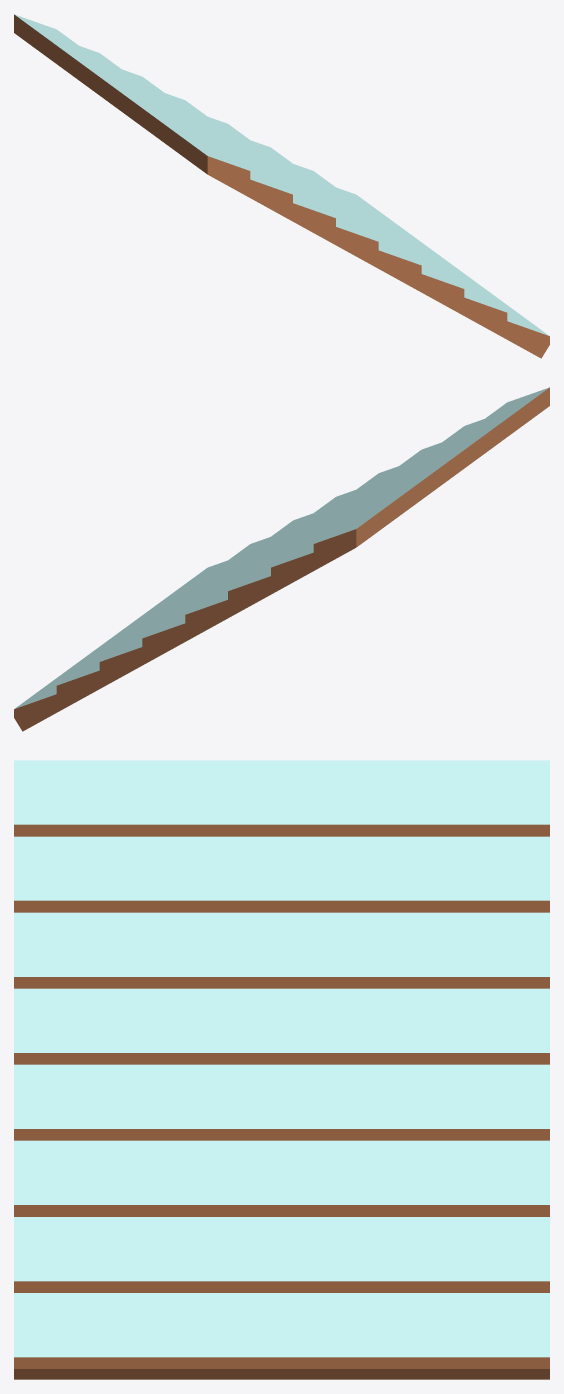
File: cabinRoof.dae
The picture shows the model from 3 angles, top to bottom: view 1: azimuth 30°, elevation 25°; view 2: azimuth 150°, elevation 25°; view 3: azimuth 270°, elevation 25°; orthographic projection. The views are drawn at different scales.
Parts seen in each view (by area): view 1: cabinRoof; view 2: cabinRoof; view 3: cabinRoof.
Part boxes in pixels (box(x1,y1,x2,y2)): cabinRoof: box(14, 14, 549, 358); cabinRoof: box(14, 387, 549, 731); cabinRoof: box(14, 760, 549, 1379).
Bounding box in the file's own units: 1.21 × 0.9559 × 1.18.
